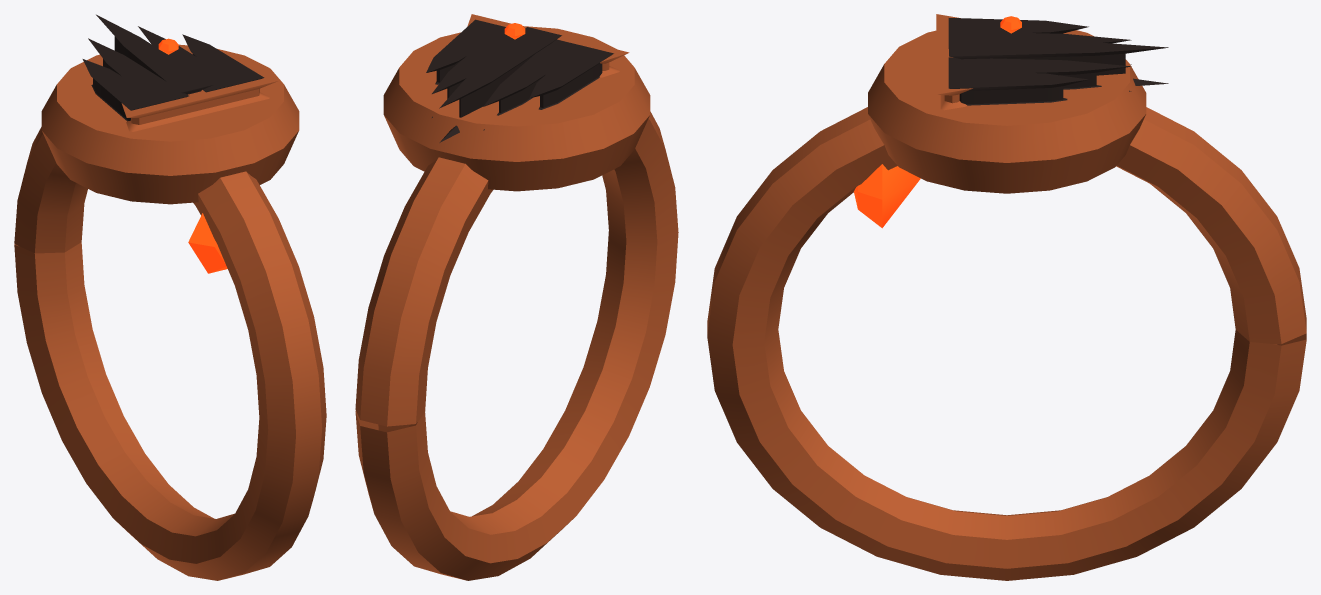
Rendered from asc_firstflame_warlord_accessory.glb.
3 views of the same model, side by side, from view 1: azimuth 30°, elevation 25°; view 2: azimuth 150°, elevation 25°; view 3: azimuth 270°, elevation 25° (orthographic). The views are drawn at different scales.
Parts seen in each view (by area): view 1: asc_firstflame_warlord_accessory; view 2: asc_firstflame_warlord_accessory; view 3: asc_firstflame_warlord_accessory.
Part boxes in pixels (box(x1,y1,x2,y2)): asc_firstflame_warlord_accessory: box(14, 14, 326, 580); asc_firstflame_warlord_accessory: box(355, 14, 678, 580); asc_firstflame_warlord_accessory: box(707, 14, 1306, 580).
Size of the model in its own units: 0.068 by 0.1476 by 0.1442.
